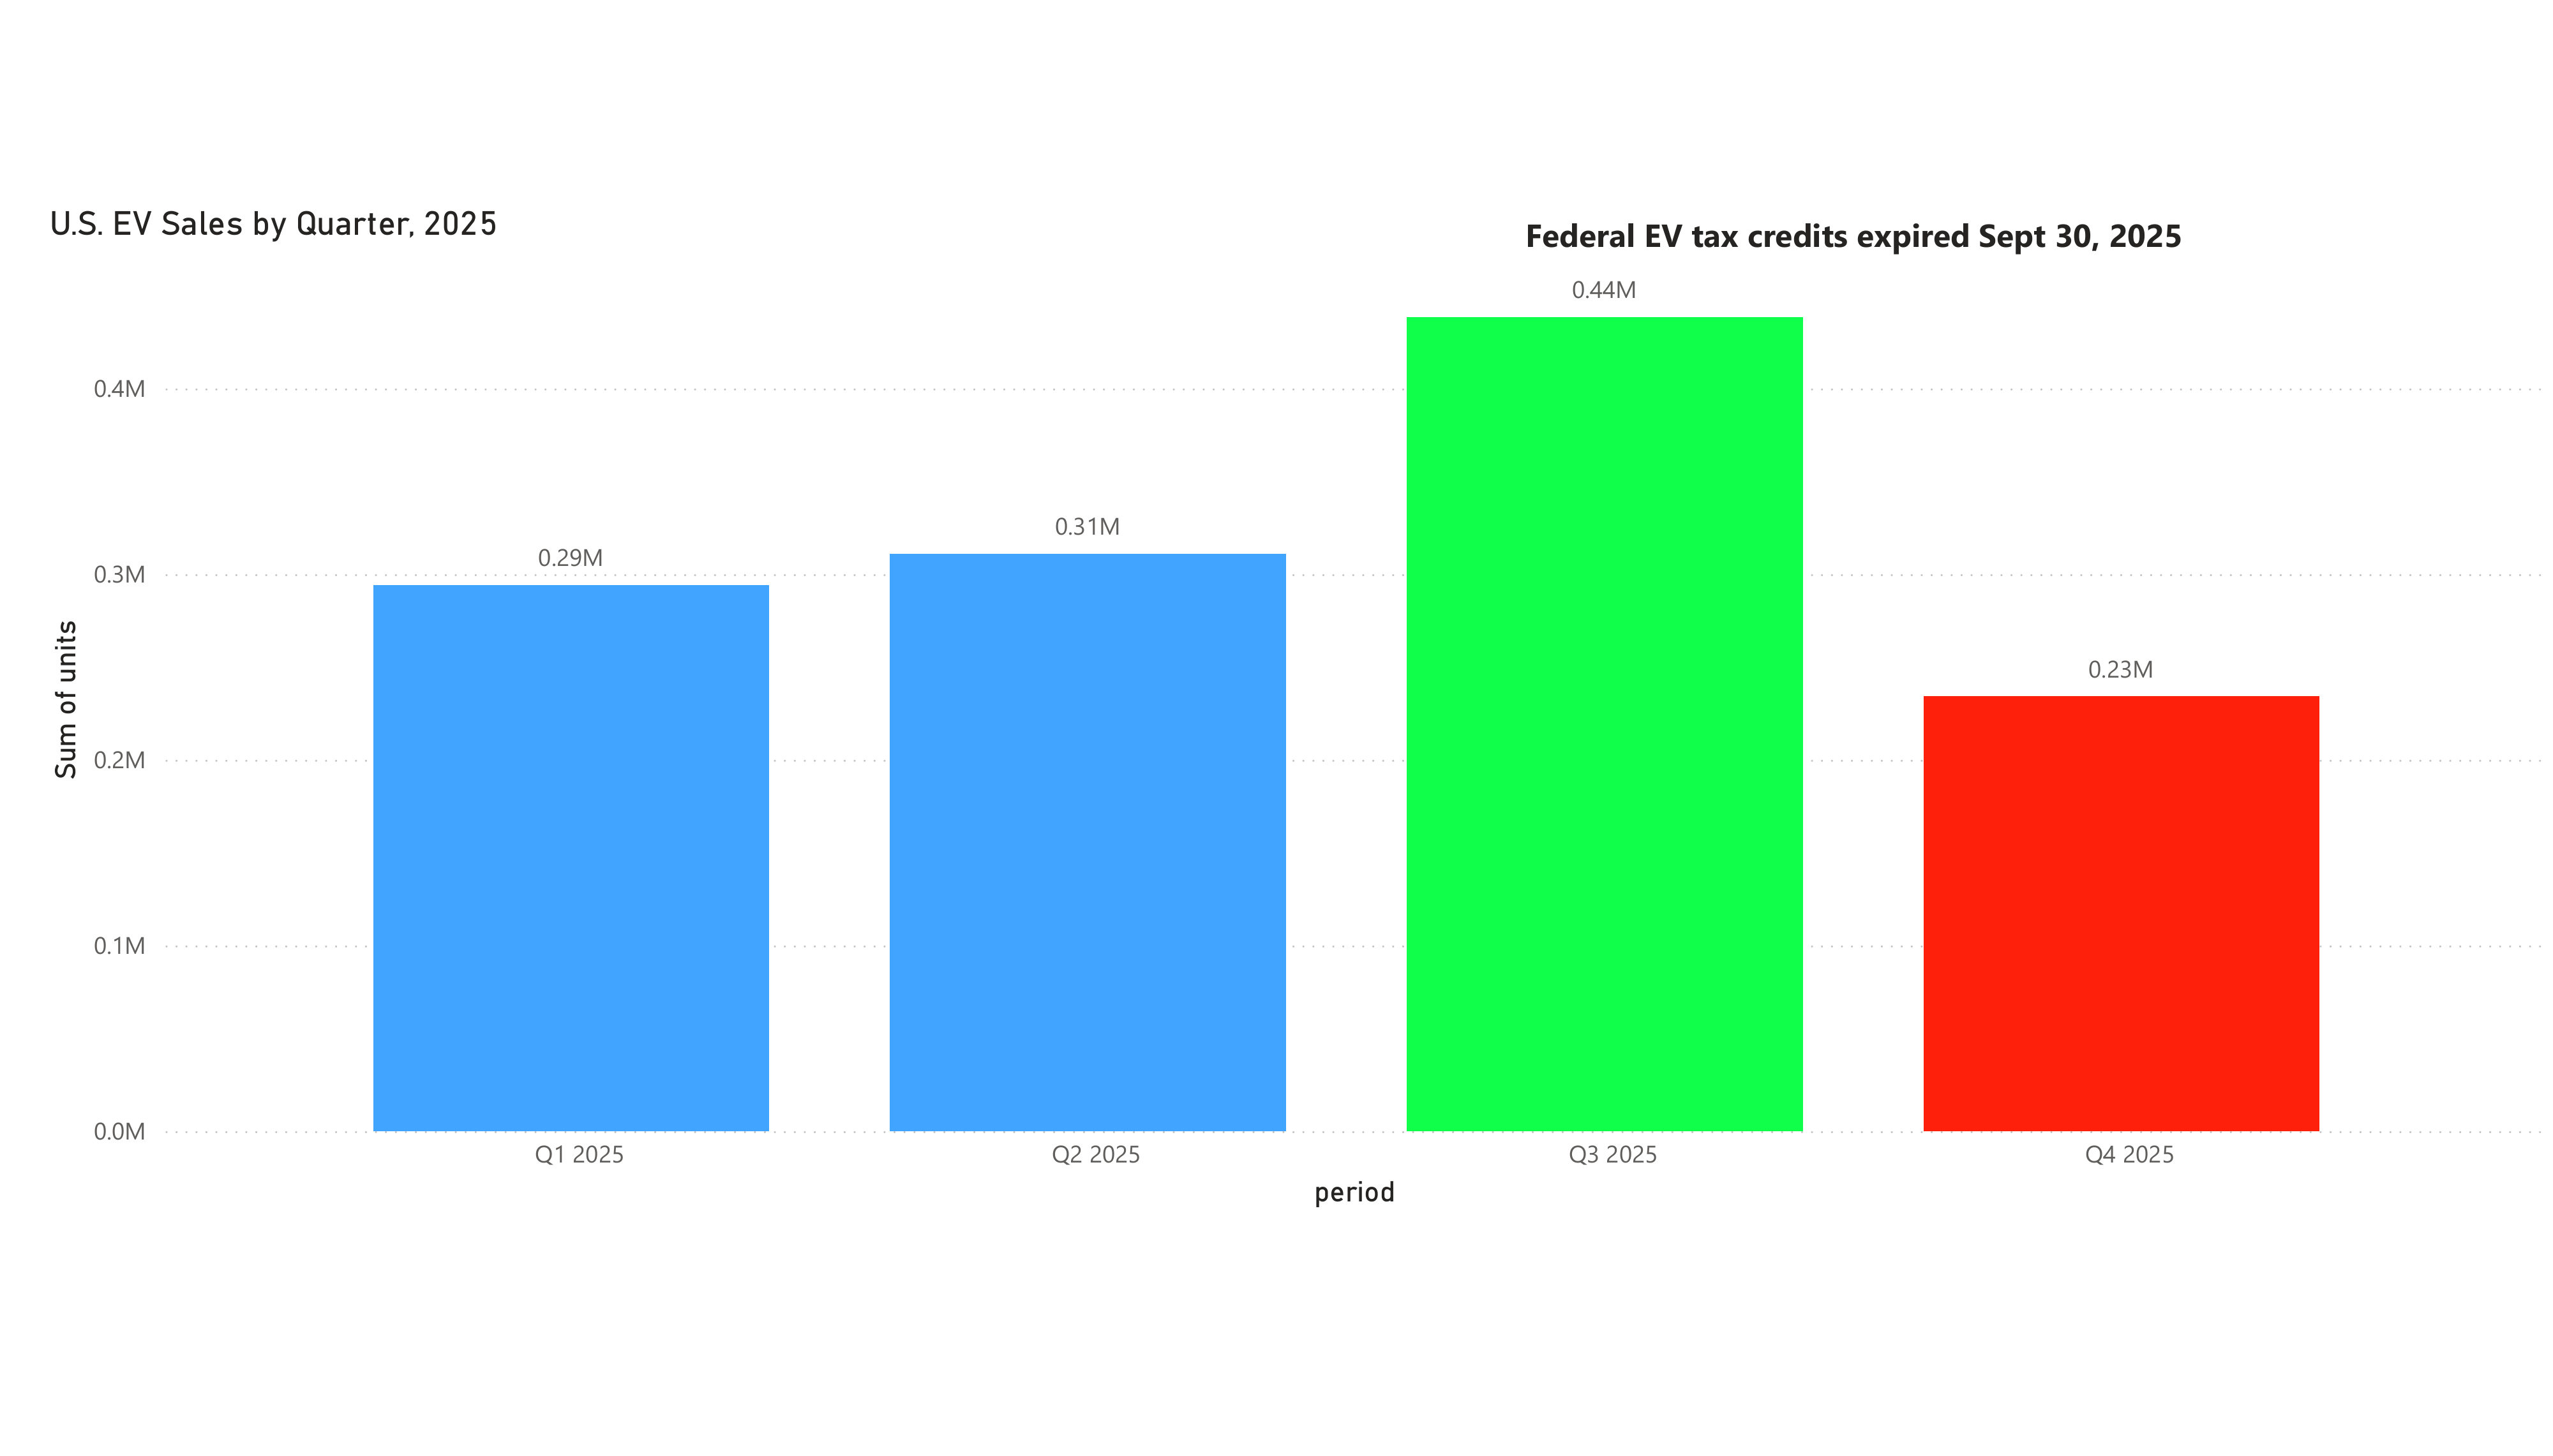

Layout of this report page (visuals, bound fields, positions):
{"tool":"powerbi","page":{"name":"U.S. Quarterly EV Sales","canvas":[1280,720],"ordinal":0},"visuals":[{"type":"clusteredColumnChart","title":"U.S. EV Sales by Quarter, 2025","fields":{"Category":["Table.period"],"Y":["Sum(Table.units)"]},"box":[19.8,96.6,1260.3,508.8],"z":3000},{"type":"textbox","box":[760.1,96.6,360.3,32.2],"z":9000}]}

Visuals, with their boxes in screenshot pixels (x1, y1, x2, y2), scaled from the page's 1280x720 canvas onto the 2553x1456 screenshot:
"U.S. EV Sales by Quarter, 2025" clusteredColumnChart: [x1=40, y1=195, x2=2552, y2=1224]
textbox: [x1=1516, y1=195, x2=2235, y2=260]
